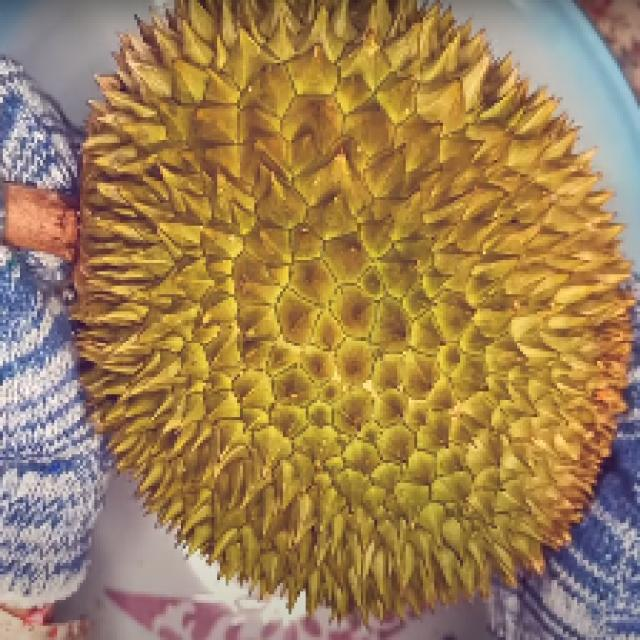d24: (26, 34, 625, 541)
